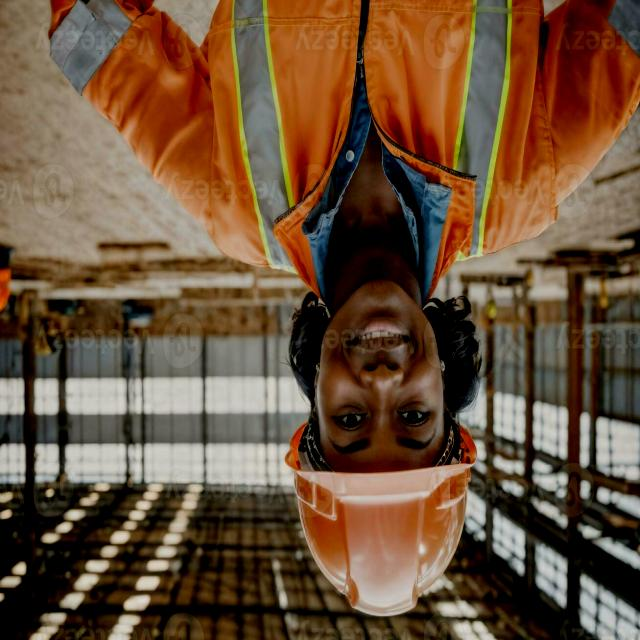Hard Hat: (273, 413, 475, 623)
Reflective Vest: (203, 0, 532, 273)
